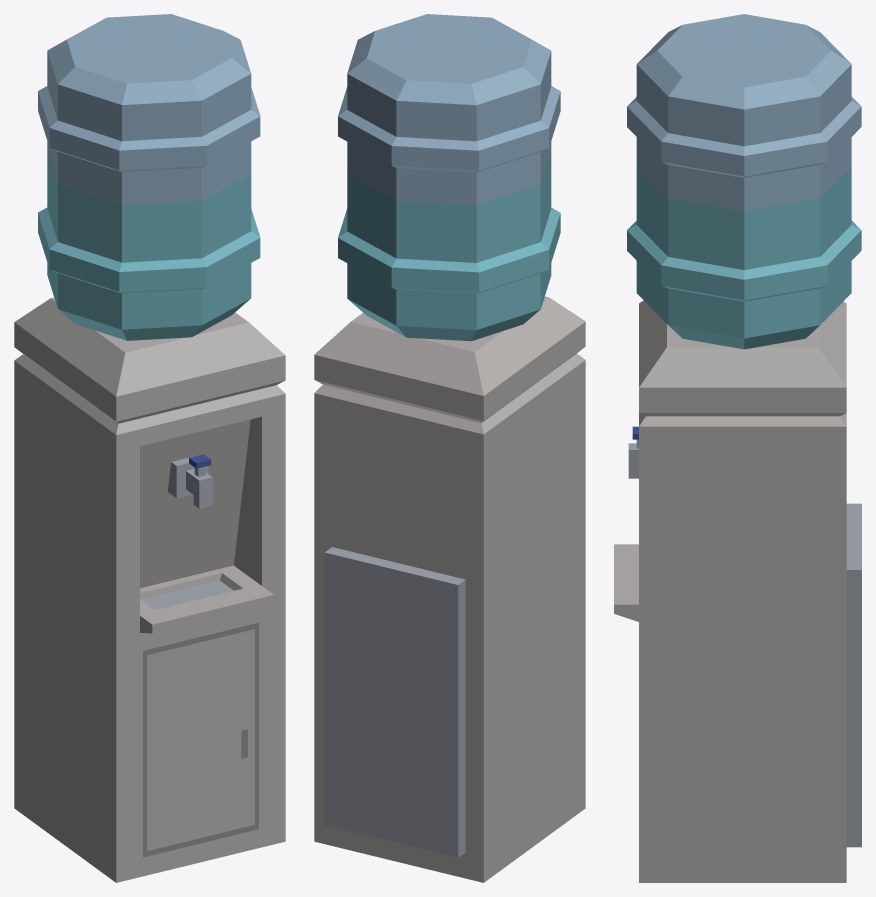
File: Prop_WaterCooler_01.glb
3 views of the same model, side by side, from view 1: azimuth 30°, elevation 25°; view 2: azimuth 150°, elevation 25°; view 3: azimuth 270°, elevation 25° (orthographic).
Visible parts, largest first — view 1: Prop_WaterCooler_01, Prop_WaterCooler_Tank_01; view 2: Prop_WaterCooler_01, Prop_WaterCooler_Tank_01; view 3: Prop_WaterCooler_01, Prop_WaterCooler_Tank_01.
Boxes of the visible parts, x1,y1,x2,y2 form: Prop_WaterCooler_01: (14, 297, 285, 882); Prop_WaterCooler_Tank_01: (38, 14, 260, 340); Prop_WaterCooler_01: (314, 296, 585, 882); Prop_WaterCooler_Tank_01: (338, 14, 560, 341); Prop_WaterCooler_01: (614, 300, 861, 882); Prop_WaterCooler_Tank_01: (627, 14, 861, 349).
Bounding box in the file's own units: 0.4522 × 1.68 × 0.4778.
Materials: 1 (1 with a texture image).
